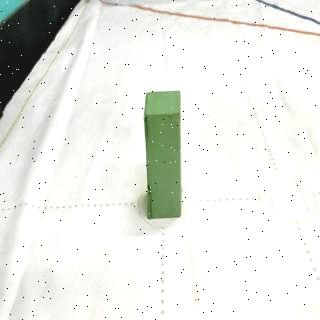greenbox: (141, 88, 184, 218)
